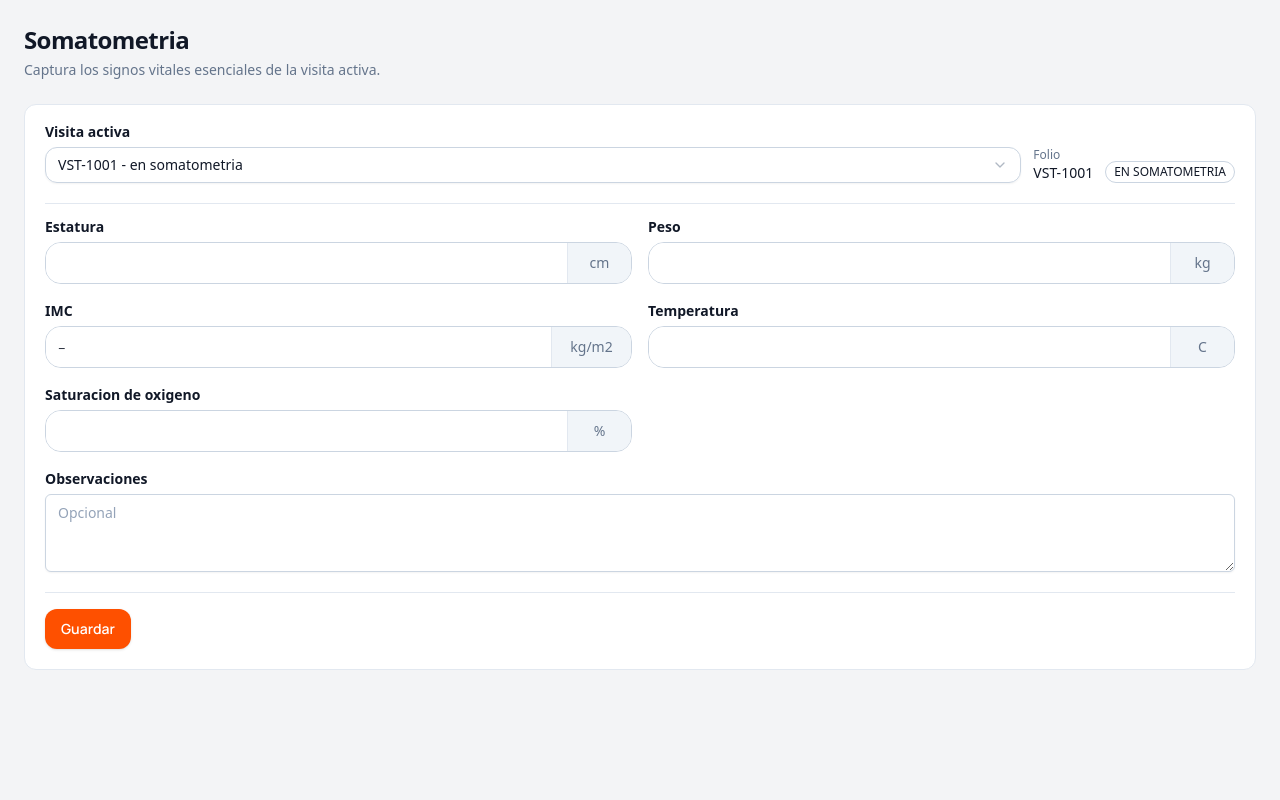
Scenario: SomatometriaCapturePage UI › valida los campos criticos de vitales
Click the button with test id "somato-save-button".
click(88, 629)  # box [45, 609, 131, 649]
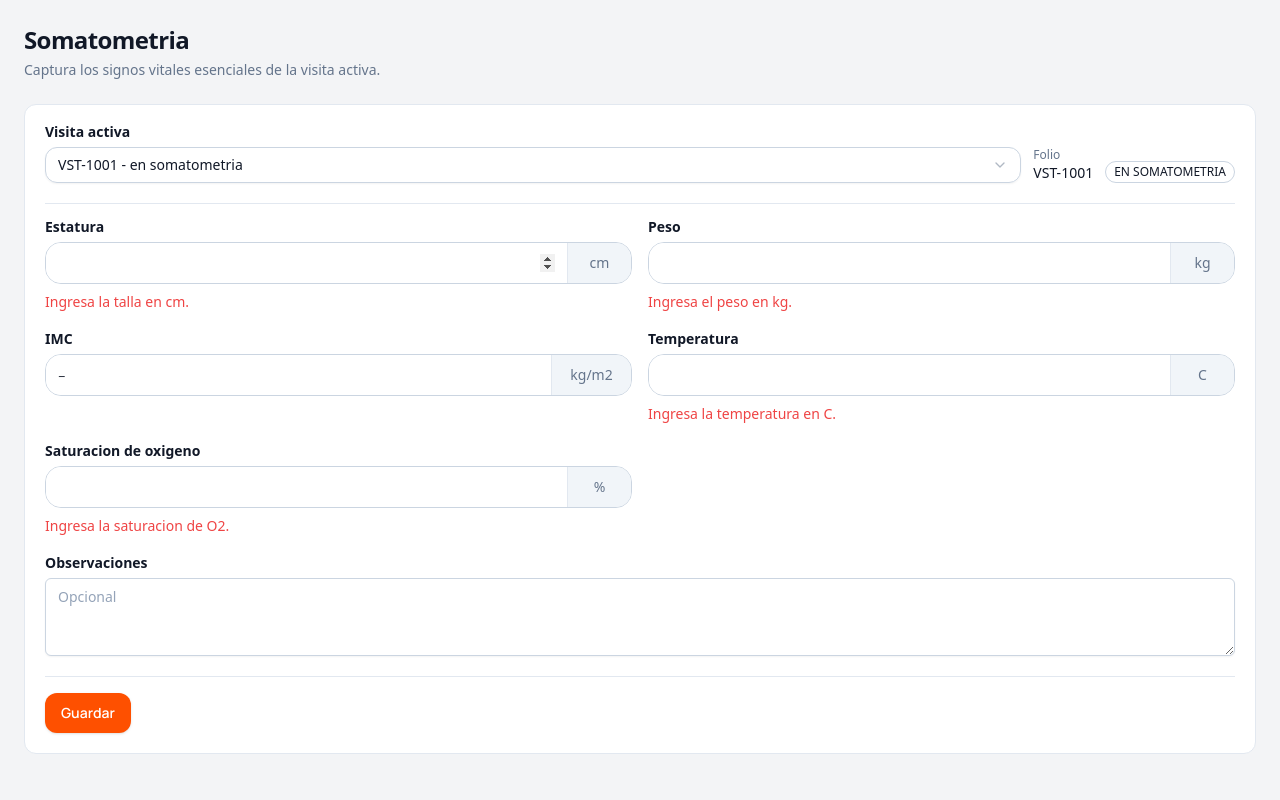
Check: the text "Ingresa el peso en kg." is shown, box [648, 292, 792, 311]
Check: the text "Ingresa la talla en cm." is shown, box [45, 292, 189, 311]
Check: the text "Ingresa la temperatura en C." is shown, box [648, 404, 836, 423]
